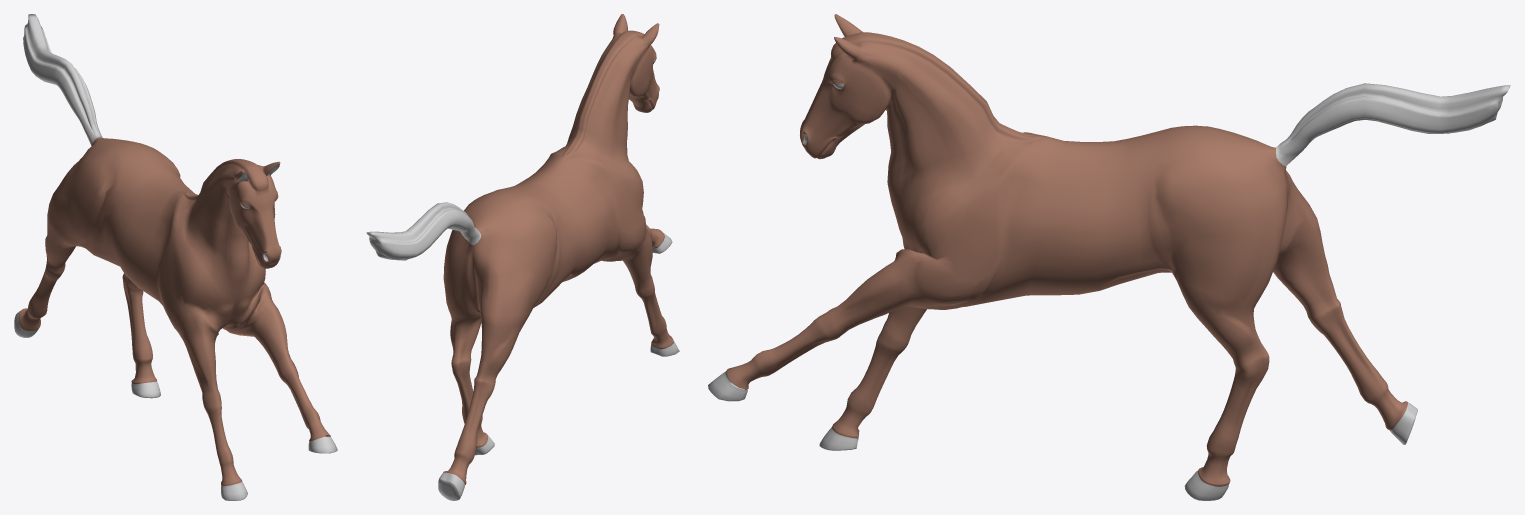
The model's file is horse_obj_11.obj.
3 views of the same model, side by side, from view 1: azimuth 30°, elevation 25°; view 2: azimuth 150°, elevation 25°; view 3: azimuth 270°, elevation 25° (orthographic). The views are drawn at different scales.
Visible parts, largest first — view 1: Figure_1; view 2: Figure_1; view 3: Figure_1.
Boxes of the visible parts, bbox=[...] form: Figure_1: bbox=[14, 14, 337, 500]; Figure_1: bbox=[366, 14, 679, 500]; Figure_1: bbox=[708, 14, 1510, 500].
Bounding box in the file's own units: 0.2421 × 0.8322 × 1.33.
